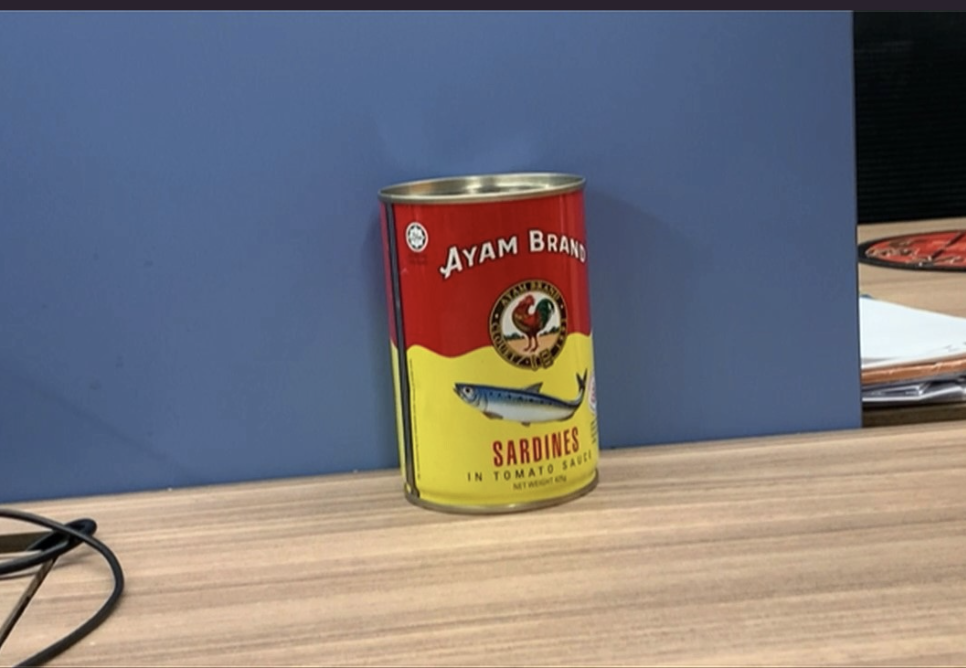sardines_400g-499g: (394, 202, 595, 492)
